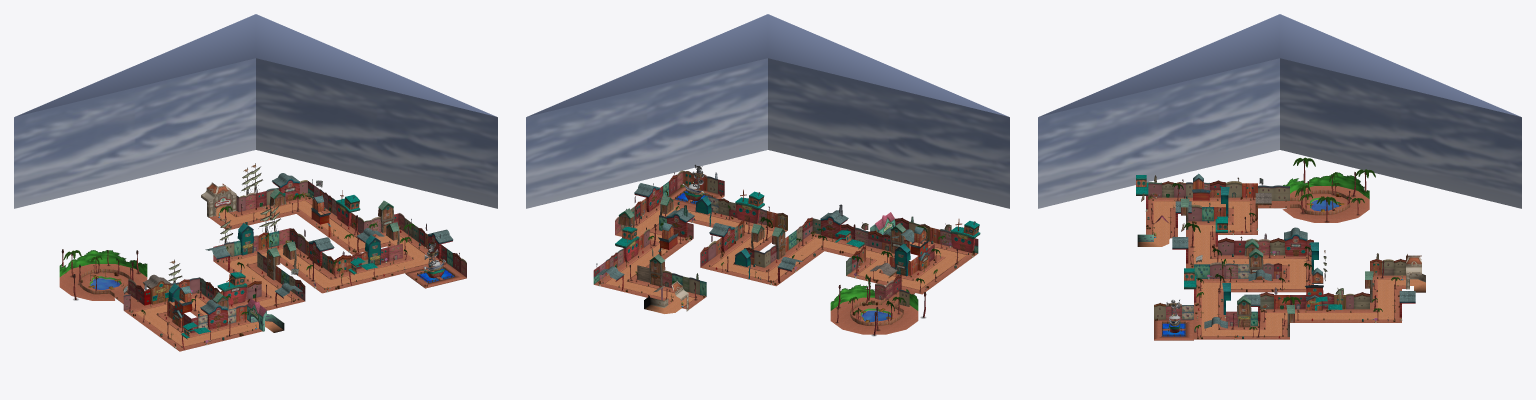
The model's file is seaweed_street.glb.
3 renders of one model, left to right at view 1: azimuth 30°, elevation 25°; view 2: azimuth 150°, elevation 25°; view 3: azimuth 270°, elevation 25°, orthographic.
Parts seen in each view (by area): view 1: skypanel4, skypanel5, o1, building1_landmark4c_sideL (×3), MMpd_outsideground, DD_D1_mast (×2), dod_HQ, o130 (×2), DDpd_outsidebackground, DDpd_ground, building1_landmark5c_sideL; view 2: skypanel1, skypanel6, o1, DD_D1_mast (×3), building1_landmark4c_sideL (×4), MMpd_outsideground, dod_HQ, DDpd_outsidebackground, o130, DDpd_ground; view 3: skypanel3, skypanel2, o1, MMpd_outsideground, dod_HQ, DDpd_outsidebackground, building1_landmark4c_sideL, o130, DDpd_fence, DDpd_ground.
Part boxes in pixels (x1,y1,x2,y2): skypanel4: [14, 58, 255, 208]; skypanel5: [256, 58, 497, 208]; o1: [15, 14, 496, 116]; building1_landmark4c_sideL (×3): [200, 173, 334, 329]; MMpd_outsideground: [59, 264, 147, 300]; DD_D1_mast (×2): [217, 190, 360, 305]; dod_HQ: [405, 259, 466, 288]; o130 (×2): [172, 195, 331, 327]; DDpd_outsidebackground: [59, 250, 147, 276]; DDpd_ground: [81, 272, 128, 296]; building1_landmark5c_sideL: [143, 274, 170, 304]; skypanel1: [768, 58, 1009, 208]; skypanel6: [526, 58, 767, 208]; o1: [527, 14, 1008, 116]; DD_D1_mast (×3): [615, 189, 980, 261]; building1_landmark4c_sideL (×4): [634, 183, 848, 251]; MMpd_outsideground: [830, 297, 918, 334]; dod_HQ: [668, 182, 724, 207]; DDpd_outsidebackground: [830, 284, 918, 310]; o130: [910, 226, 929, 270]; DDpd_ground: [850, 301, 902, 322]; skypanel3: [1280, 58, 1521, 208]; skypanel2: [1038, 58, 1279, 208]; o1: [1039, 14, 1520, 116]; MMpd_outsideground: [1282, 186, 1369, 222]; dod_HQ: [1154, 314, 1193, 340]; DDpd_outsidebackground: [1283, 172, 1369, 198]; building1_landmark4c_sideL: [1284, 227, 1307, 256]; o130: [1305, 267, 1323, 310]; DDpd_fence: [1290, 190, 1349, 215]; DDpd_ground: [1290, 193, 1348, 211].
Bounding box in the file's own units: 698 × 357 × 604.
Materials: 322 (320 with a texture image).
